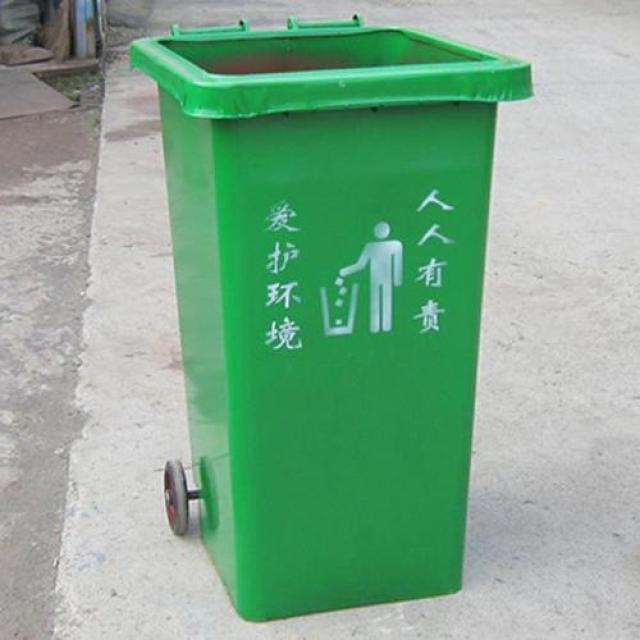garbage_bin: (128, 13, 531, 622)
